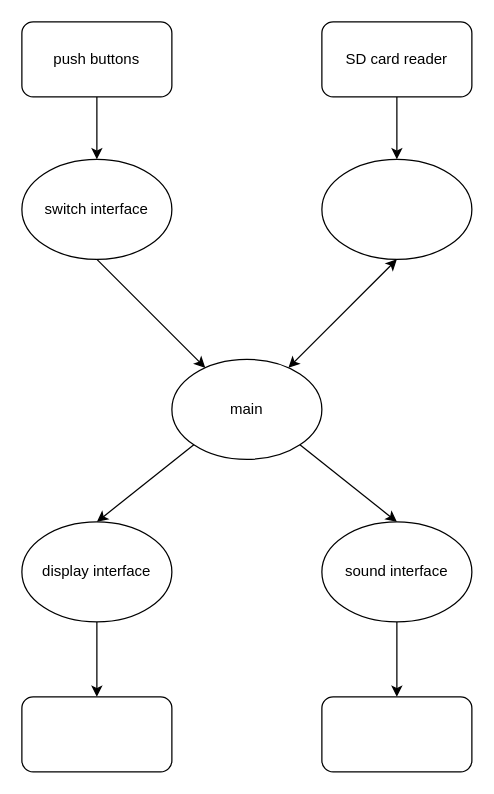
Some shapes in this 494 by 794 pixel diagram are drawn without their labels. The shapes that lost their labels are listed below. From the top down, each one's centre as x and y in pixels, then its label:
pixel 396 208: memory interface
pixel 96 734: LCD screen
pixel 396 734: sound hardware
